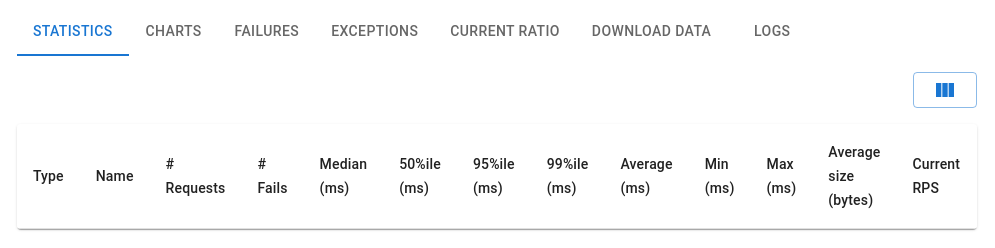
Tabs › appends the current tab to url query and url state and changes view on tab click
The image size is (995, 248).
Click the tab "Failures" at (267, 32), box [219,8,315,56]
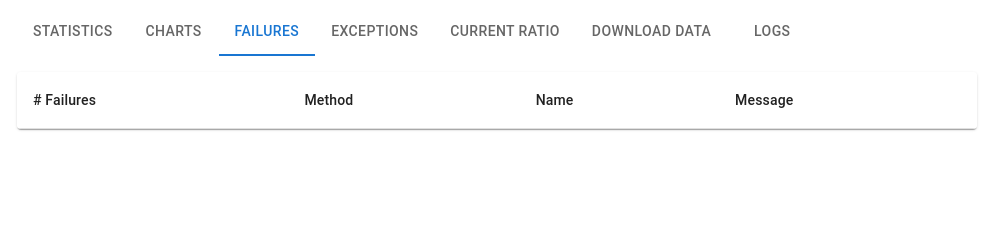
Result: the column heading "# Failures" is shown at [17,72,288,128]
